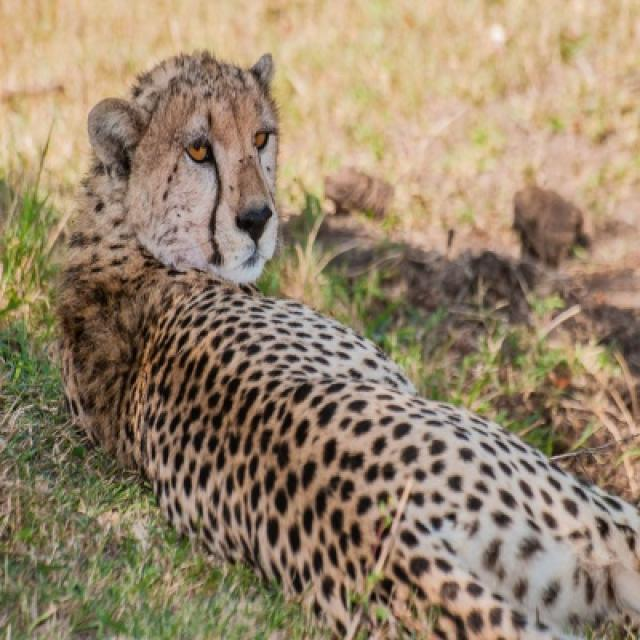Cheetah: (54, 59, 638, 638)
